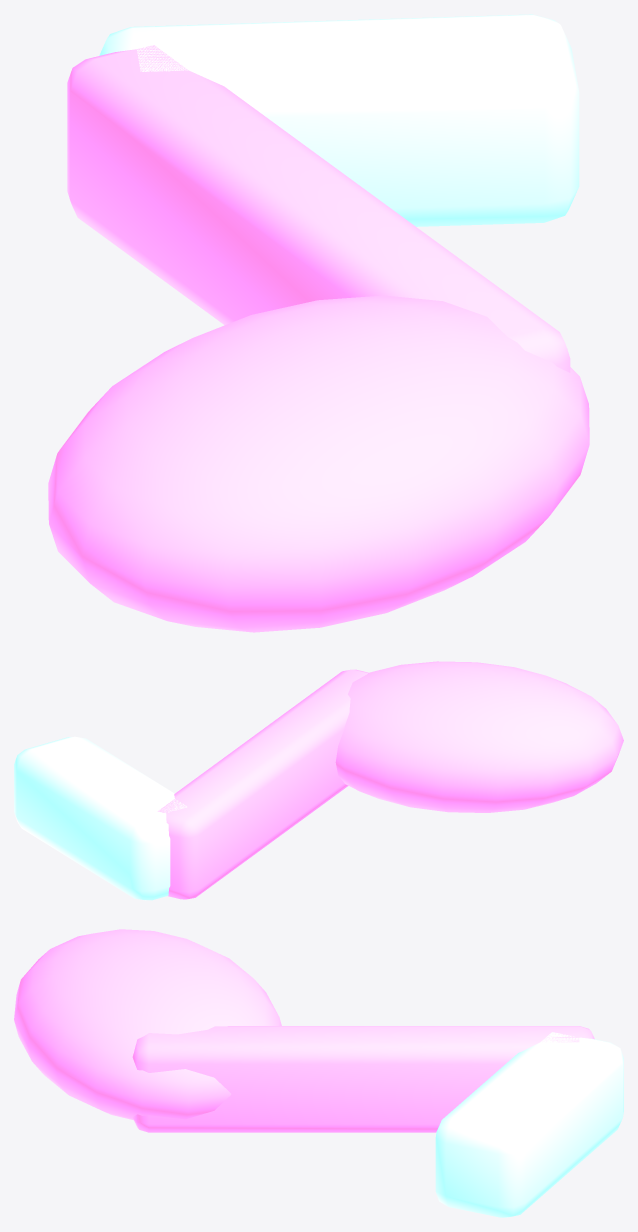
Rendered from music_note.glb.
3 renders of one model, top to bottom at view 1: azimuth 30°, elevation 25°; view 2: azimuth 150°, elevation 25°; view 3: azimuth 270°, elevation 25°, orthographic. The views are drawn at different scales.
Visible parts, largest first — view 1: Sphere, Cube, Cube.001; view 2: Sphere, Cube, Cube.001; view 3: Cube, Sphere, Cube.001.
Part boxes in pixels (x1=…): Sphere: x1=48, y1=295, x2=589, y2=632; Cube: x1=67, y1=45, x2=570, y2=372; Cube.001: x1=99, y1=14, x2=579, y2=226; Sphere: x1=335, y1=661, x2=623, y2=812; Cube: x1=157, y1=669, x2=368, y2=899; Cube.001: x1=14, y1=736, x2=186, y2=900; Cube: x1=132, y1=1026, x2=594, y2=1132; Sphere: x1=14, y1=929, x2=281, y2=1119; Cube.001: x1=435, y1=1032, x2=623, y2=1217.
Size of the model in its own units: 0.6518 by 0.171 by 0.737.
